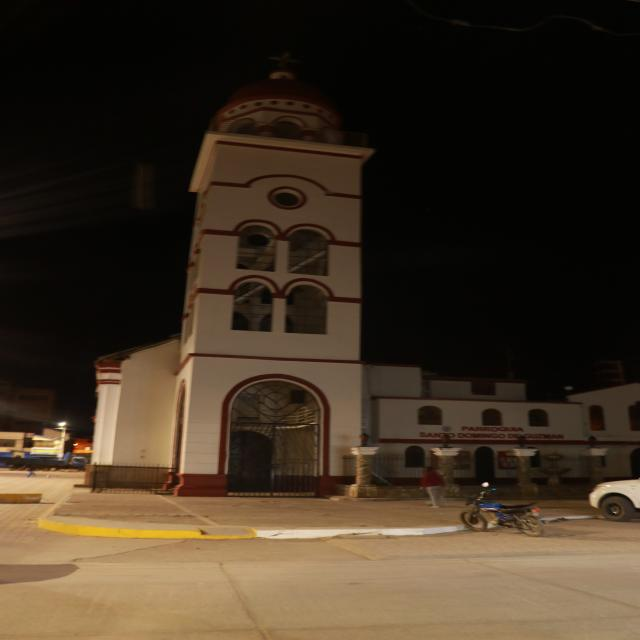CAMPANARIO: (174, 142, 384, 373)
CUPULA: (194, 63, 356, 147)
TORRES: (155, 46, 397, 521)
colonial-architecture-: (69, 36, 640, 496)
